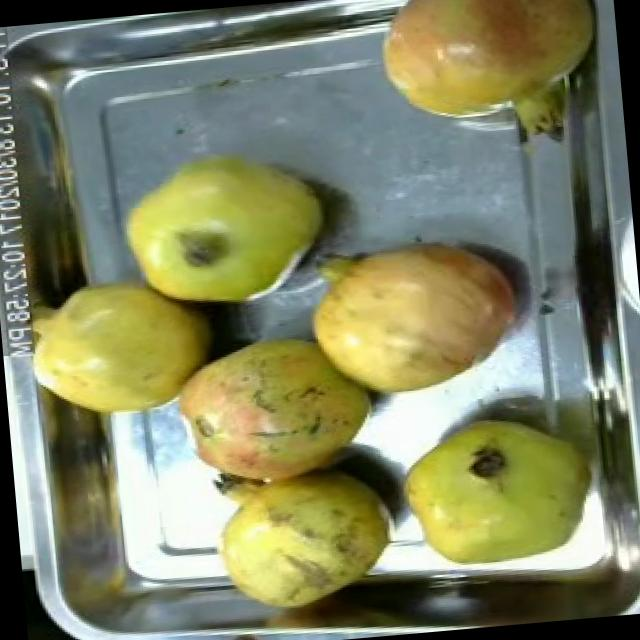fruit: (288, 222, 538, 414), (108, 133, 340, 323), (162, 318, 384, 503), (356, 0, 615, 151), (388, 403, 605, 582), (5, 262, 224, 432), (196, 458, 410, 625)
